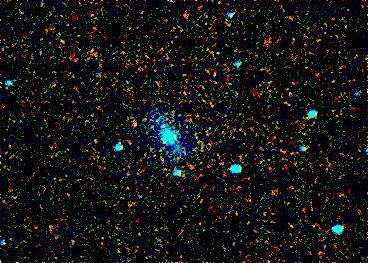star: (119, 110, 149, 140)
